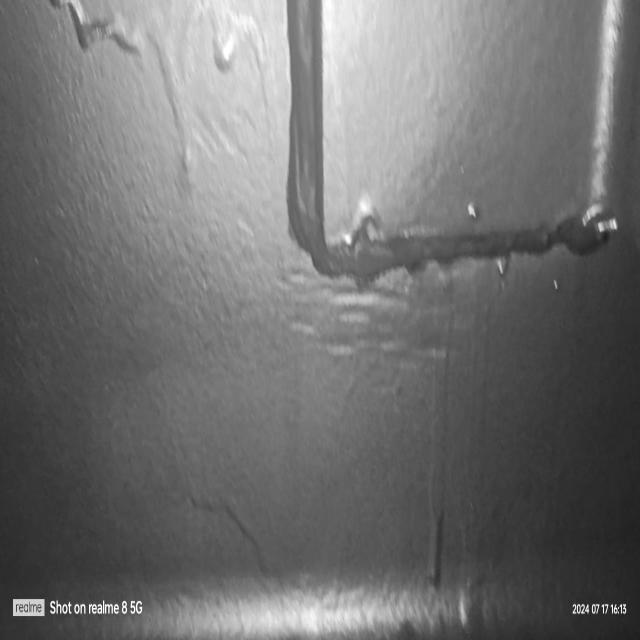paint drips: (50, 0, 280, 190), (185, 476, 282, 580), (424, 272, 448, 599), (491, 252, 514, 284), (465, 193, 483, 226)
